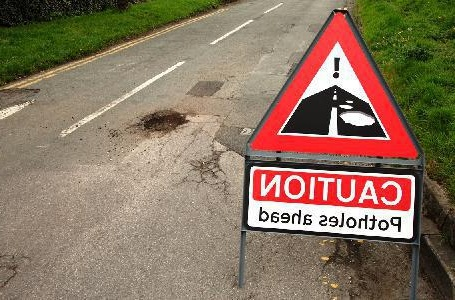pothole: (132, 107, 190, 138)
